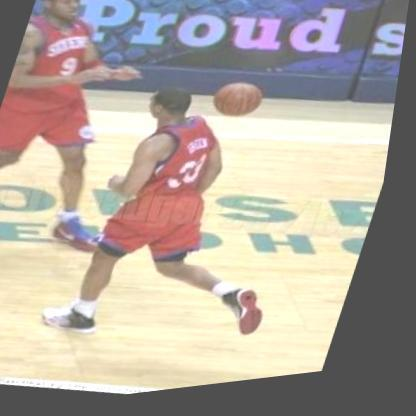basketball: (202, 77, 276, 134)
